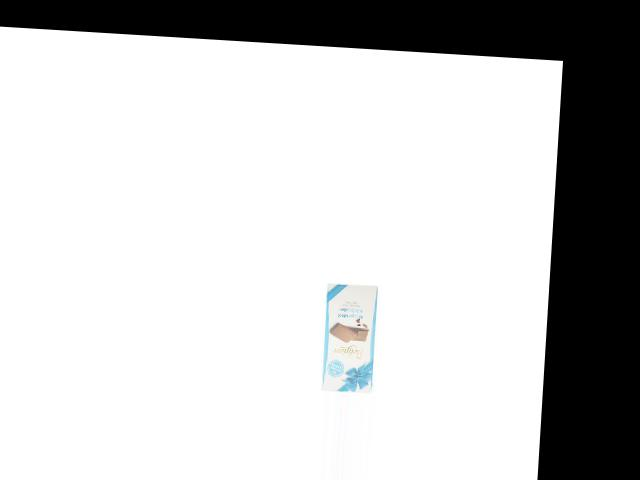chocolate: (316, 280, 385, 395)
